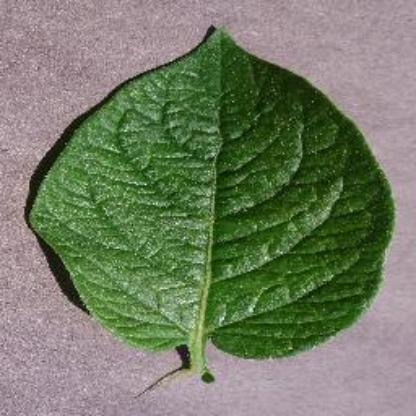Healthy-plant: (24, 17, 404, 387)
